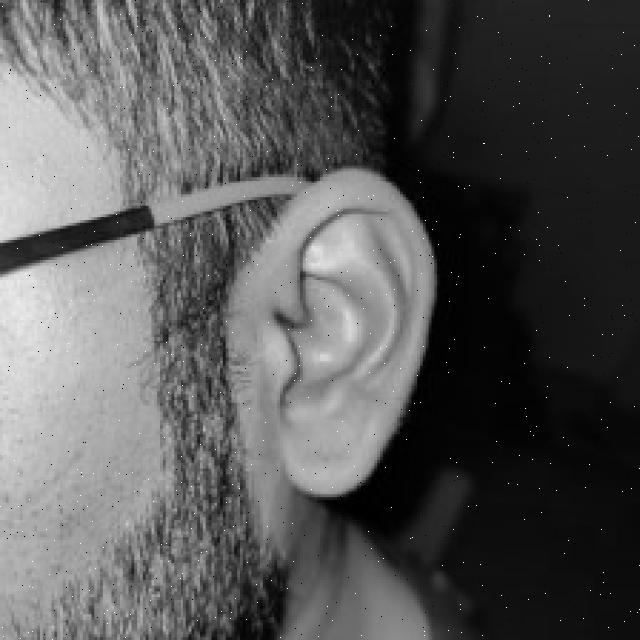ear: (231, 171, 431, 491)
